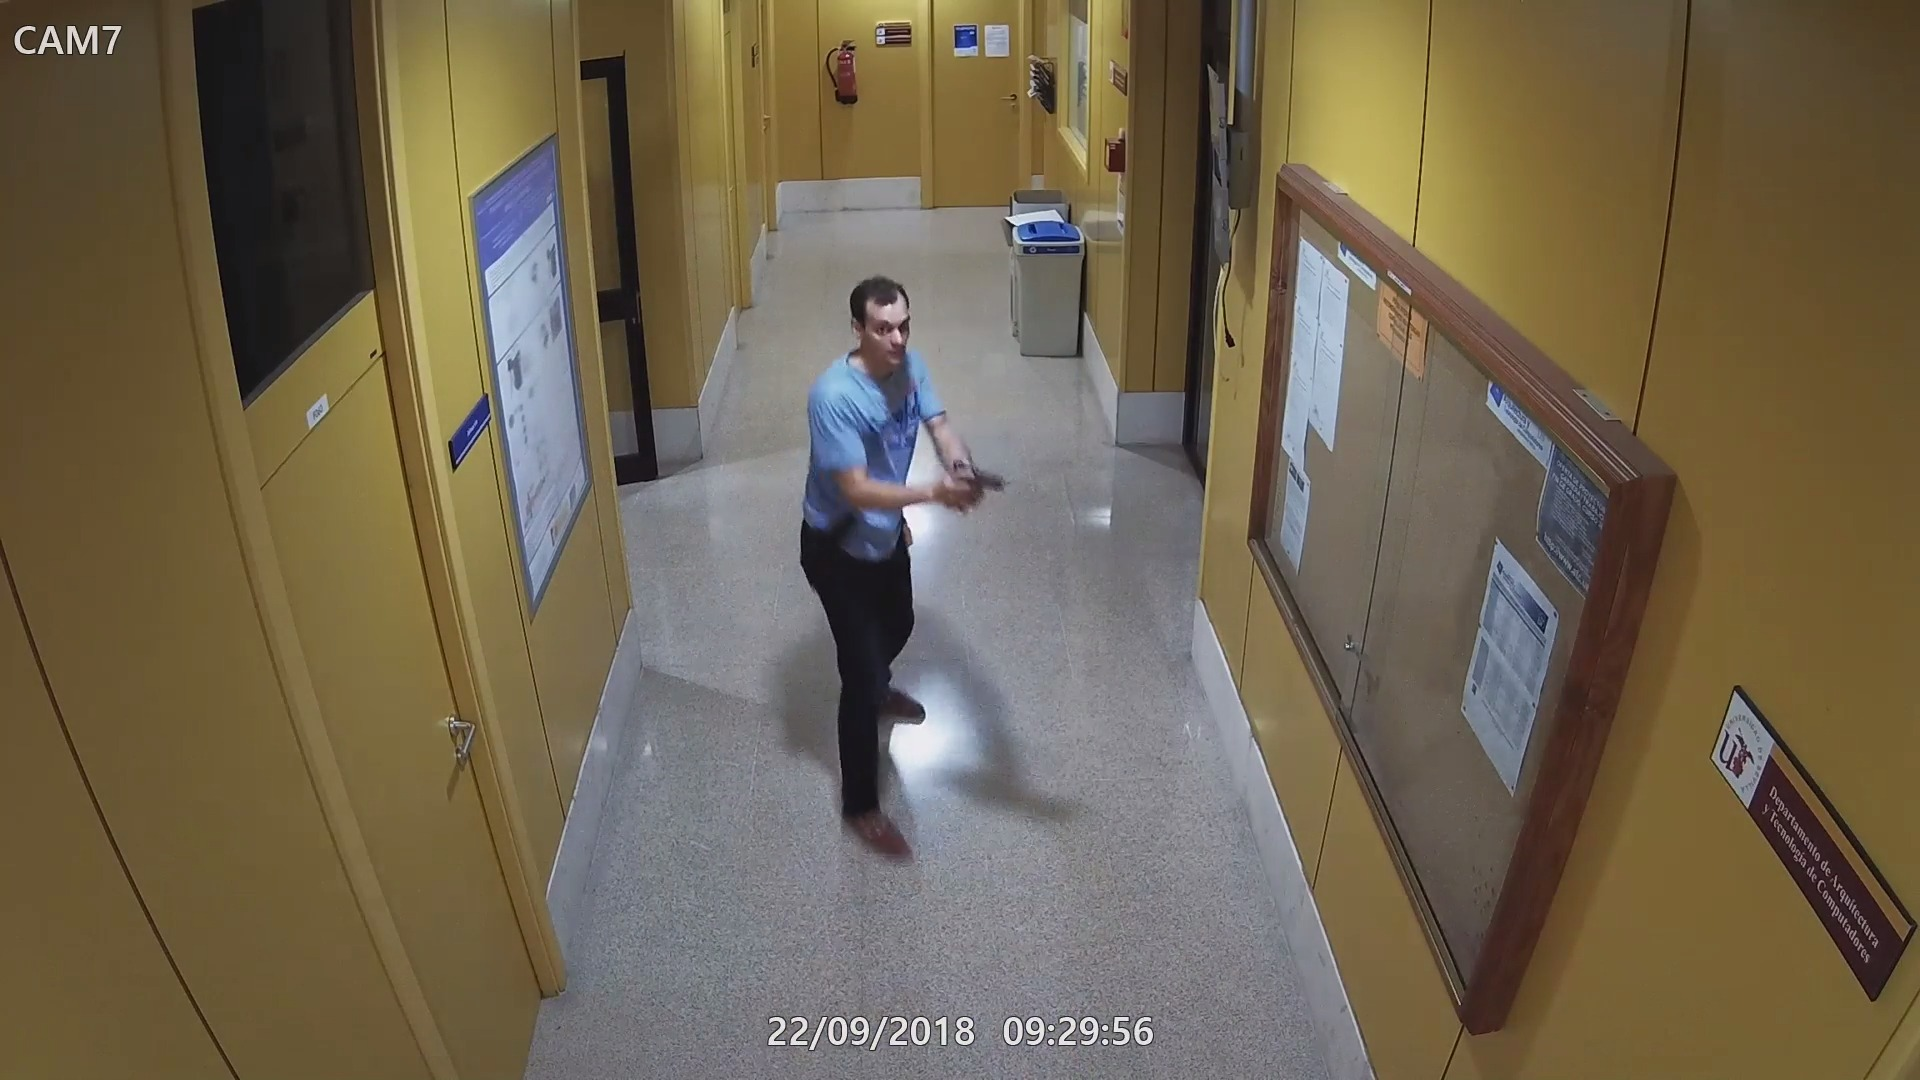Handgun: (938, 460, 1006, 516)
